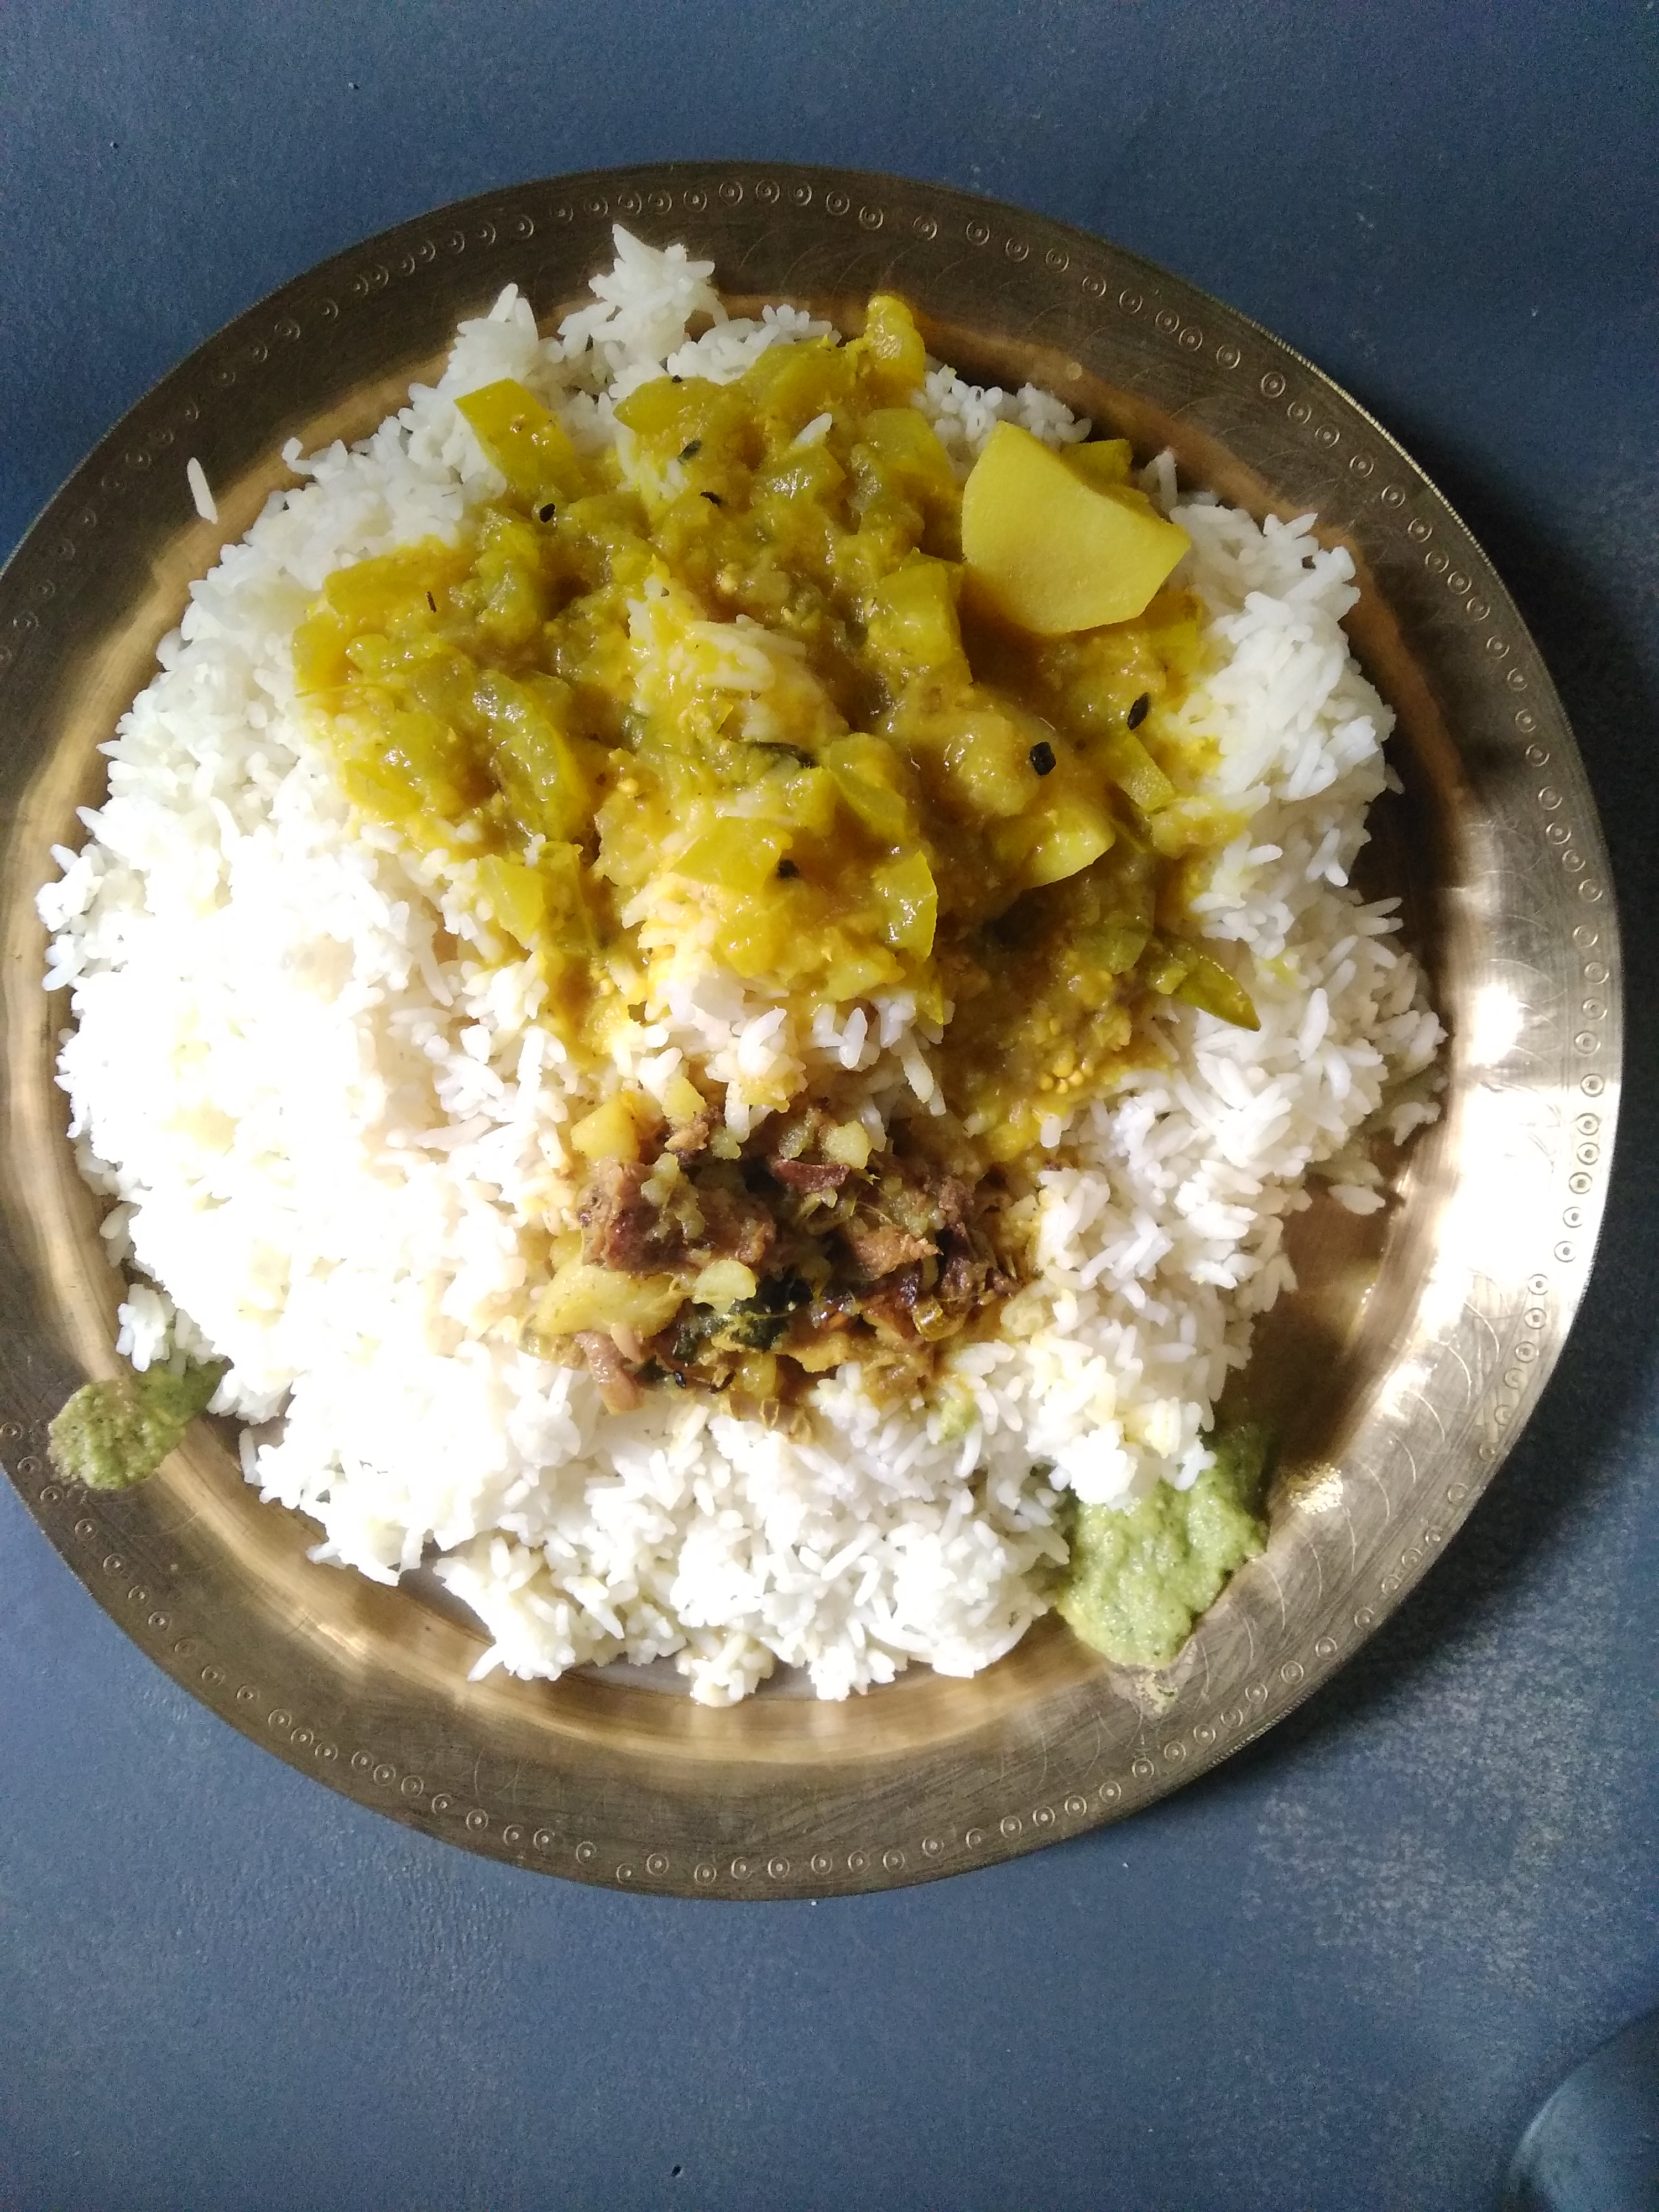food: (28, 214, 1460, 1719)
